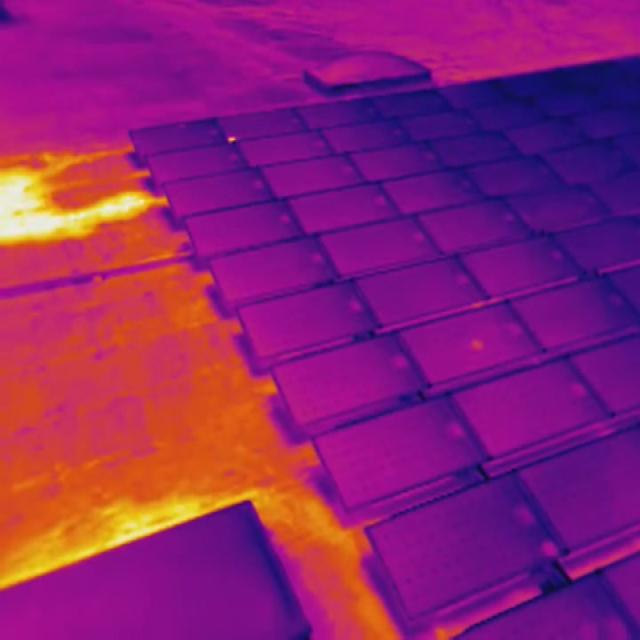Orange-Spots: (471, 338, 483, 350), (227, 136, 236, 142)
